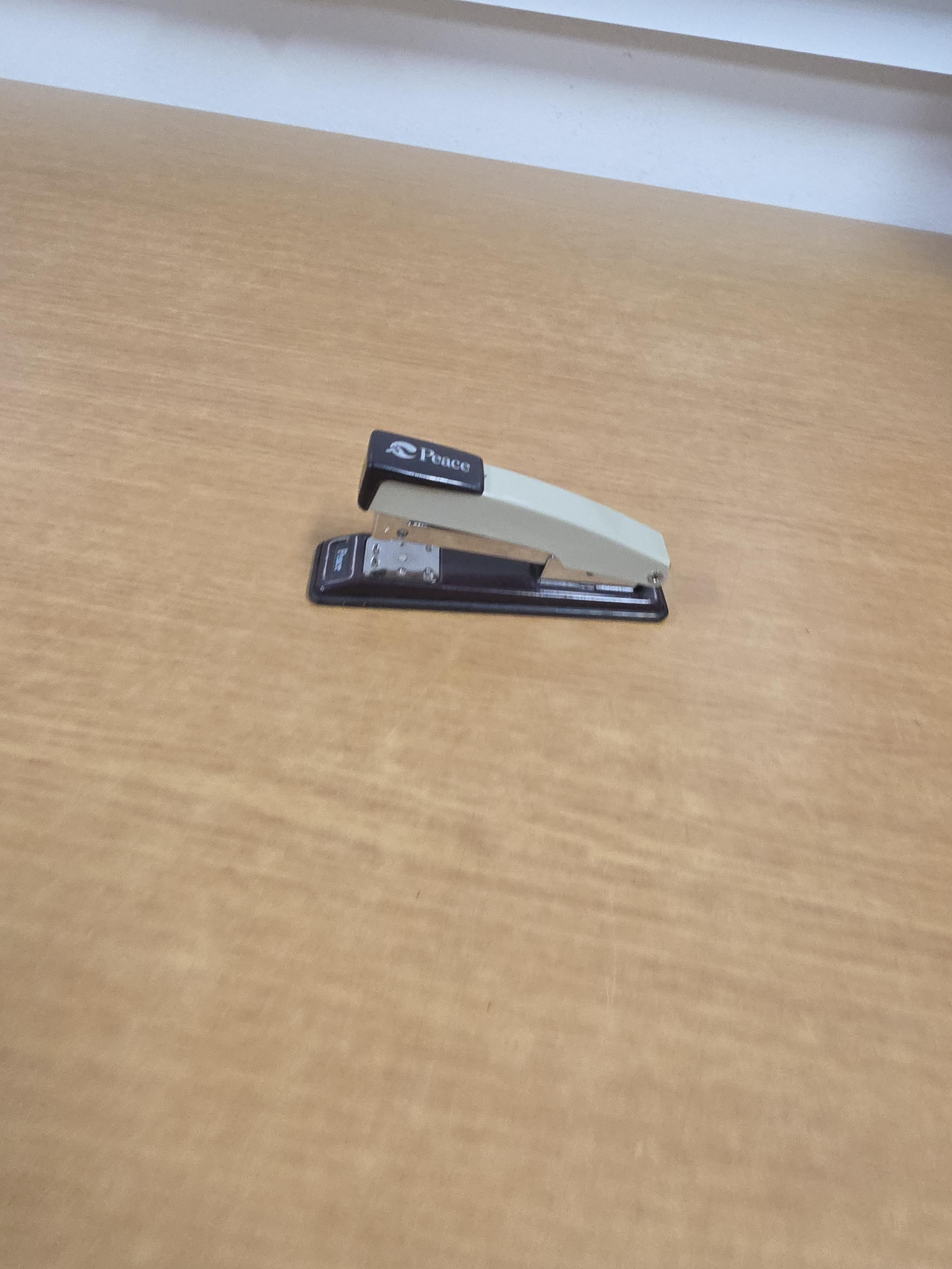stapler: (307, 430, 672, 623)
